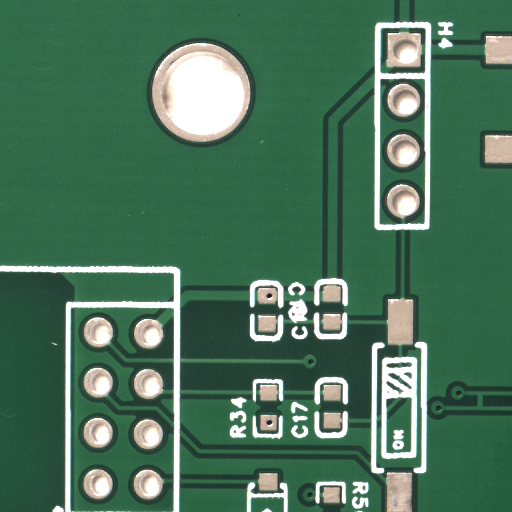Short: (479, 400, 489, 421)
